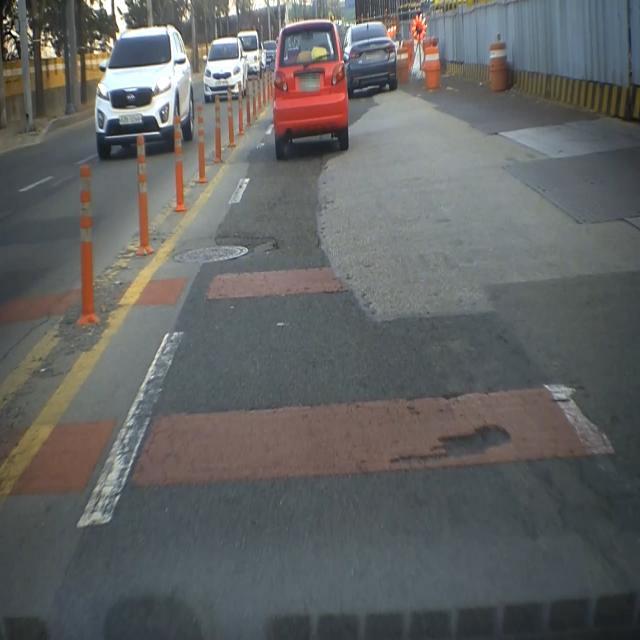Pothole: (383, 419, 517, 477)
